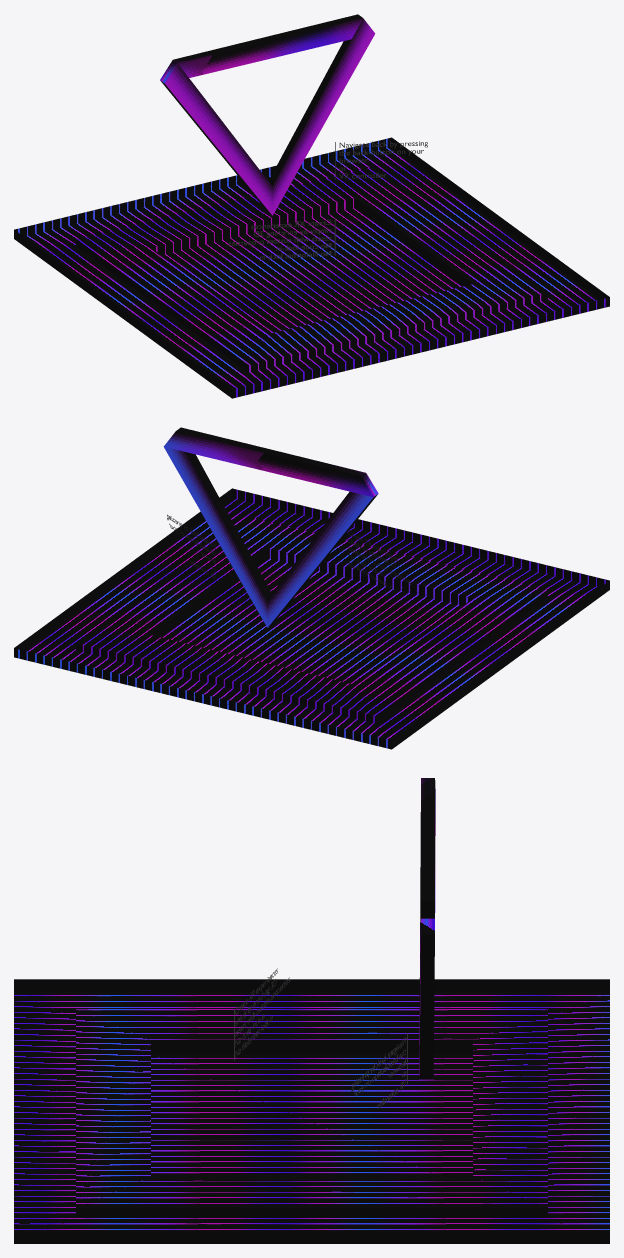
File: other.gltf
3 views of the same model, one above another, from view 1: azimuth 30°, elevation 25°; view 2: azimuth 150°, elevation 25°; view 3: azimuth 270°, elevation 25° (orthographic). The views are drawn at different scales.
Parts seen in each view (by area): view 1: floor, art_triangle, Text, Text.001; view 2: floor, art_triangle, Text, Text.001; view 3: floor, art_triangle, Text, Text.001.
Part boxes in pixels (x1,y1,x2,y2): floor: (14,137,609,398); art_triangle: (160,14,375,215); Text: (227,219,331,259); Text.001: (339,141,427,178); floor: (14,488,609,749); art_triangle: (163,427,378,627); Text: (348,530,412,589); Text.001: (167,514,215,578); floor: (14,979,609,1243); art_triangle: (419,778,435,1079); Text: (235,968,290,1057); Text.001: (351,1037,405,1108).
Size of what is drawn, in the model's own units: 44.52 by 23.22 by 44.52.
3 materials, 1 textured.
